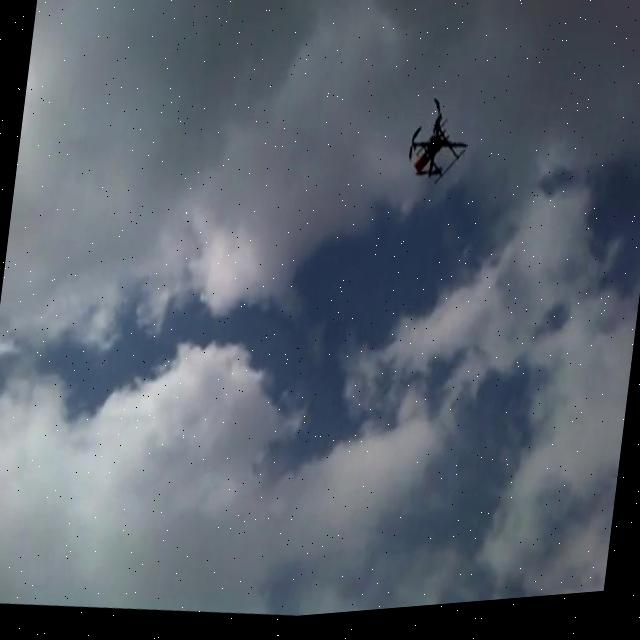drone: (400, 95, 473, 199)
